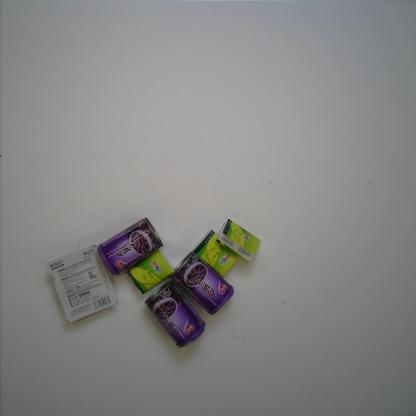Canned Food: (170, 250, 235, 316), (144, 280, 206, 349), (97, 216, 164, 276)
Stationery: (46, 244, 118, 324)
Tissue: (192, 228, 241, 277), (126, 247, 175, 296), (215, 218, 262, 264)
